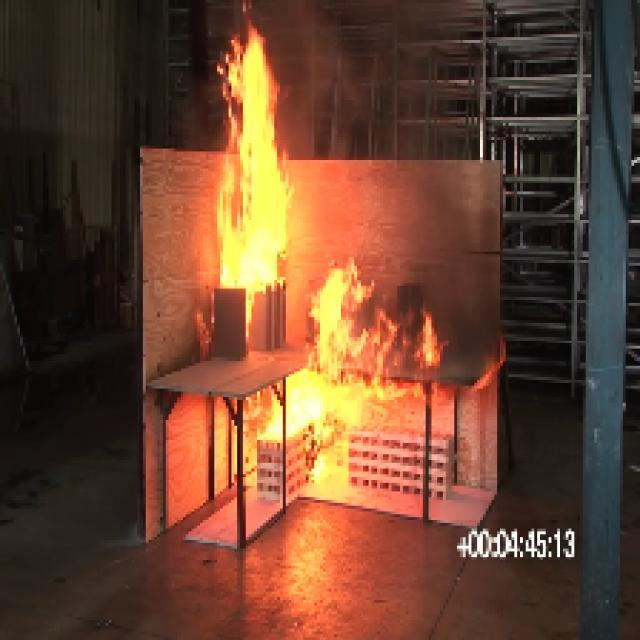Fire: (212, 42, 292, 290), (262, 376, 376, 444), (310, 267, 372, 363)
